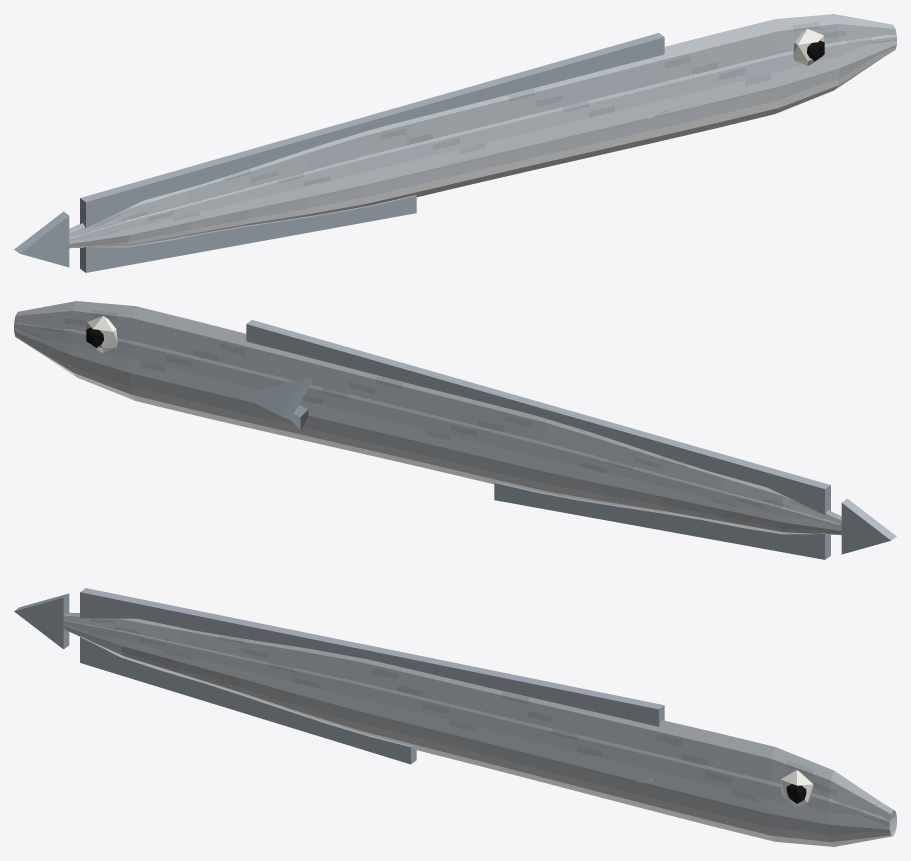
File: frostfish.glb
The picture shows the model from 3 angles, top to bottom: view 1: azimuth 30°, elevation 25°; view 2: azimuth 150°, elevation 25°; view 3: azimuth 330°, elevation 25°; orthographic projection.
Parts seen in each view (by area): view 1: fish_frostfish; view 2: fish_frostfish; view 3: fish_frostfish.
Boxes of the visible parts, <box> form: fish_frostfish: <box>14,14,896,272</box>; fish_frostfish: <box>14,301,896,559</box>; fish_frostfish: <box>14,588,896,846</box>.
Size of the model in its own units: 1.06 by 0.1336 by 0.0706.
4 materials, 1 textured.
